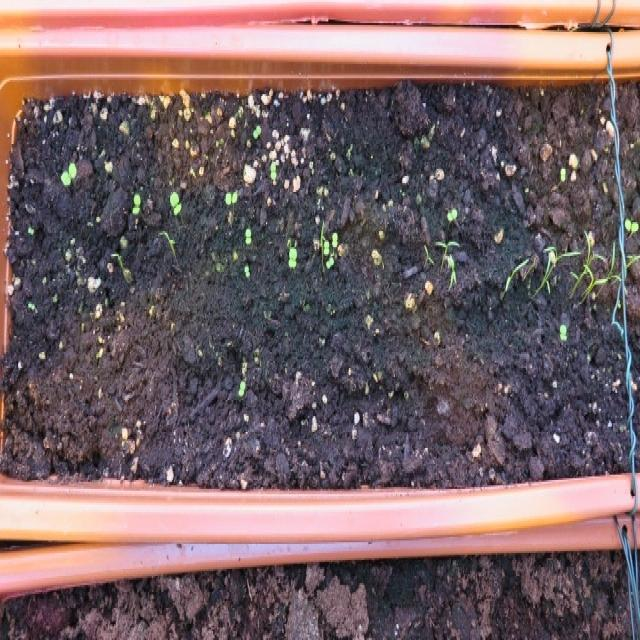weed: (55, 158, 79, 185), (164, 189, 185, 215), (218, 185, 240, 204), (284, 242, 299, 266), (128, 190, 142, 215), (240, 226, 253, 245), (235, 377, 246, 398), (238, 260, 251, 276)
